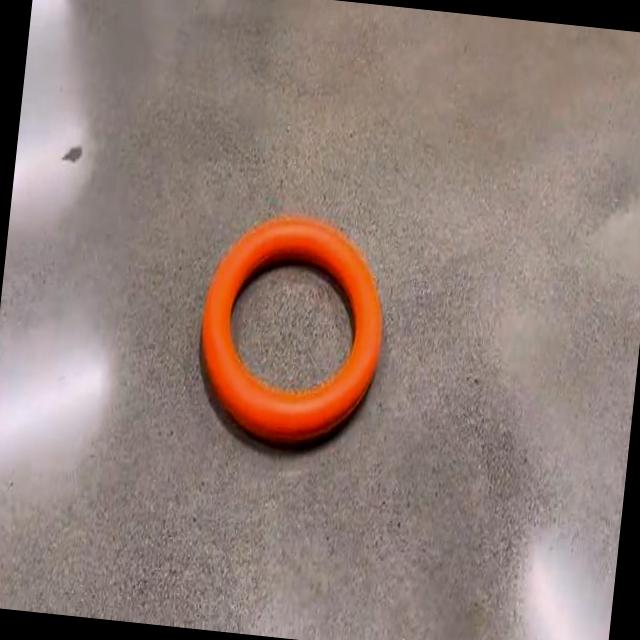note: (201, 216, 382, 443)
